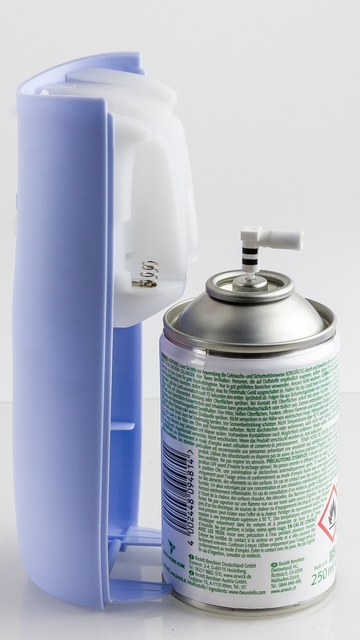Vim Dishwash Gel: (18, 32, 342, 608)
